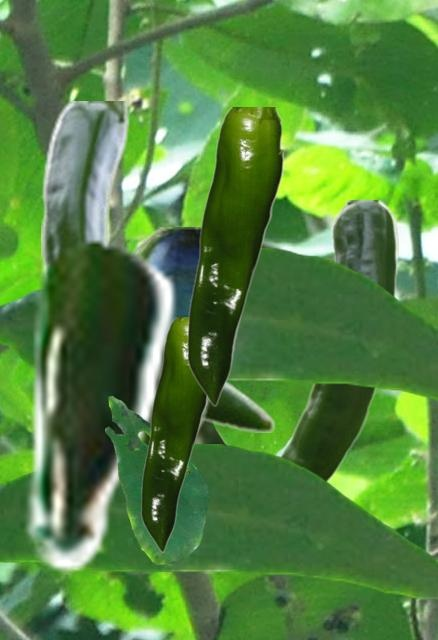green_chili: (41, 101, 275, 431), (17, 236, 177, 573), (280, 200, 399, 481), (186, 107, 282, 405), (196, 229, 315, 452), (132, 227, 239, 443), (140, 317, 208, 551)
